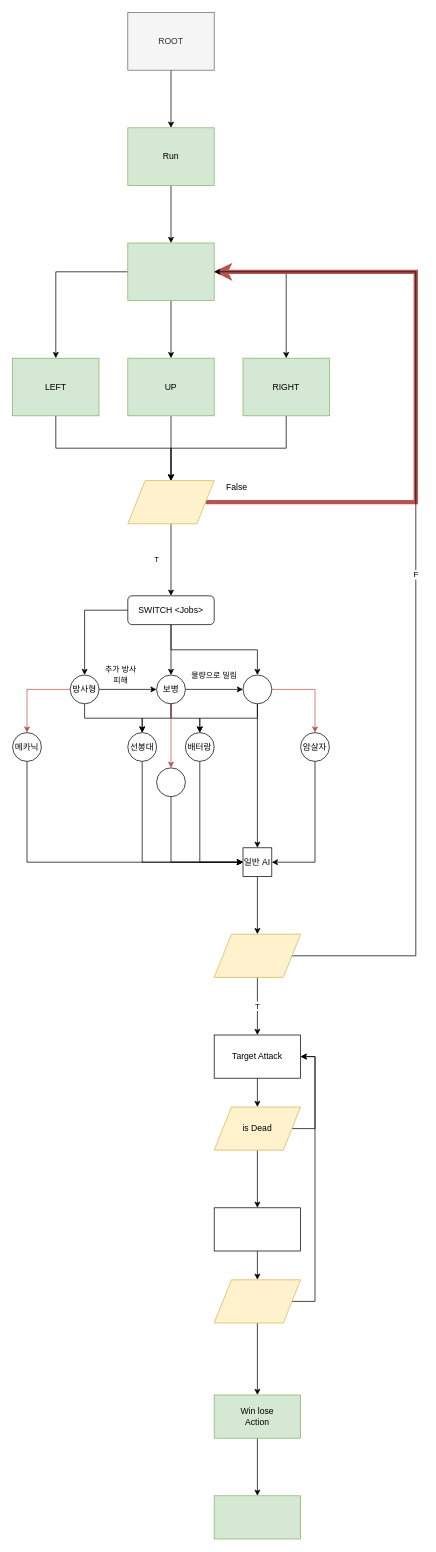
This 436x1552 diagram has some shape labels left out. Each missing label, with the centre of its shape:
all Target Dead: point 257,1301
change Nearest Target: point 257,1229
is Range: point 257,955
MEET ENEMY: point 170,502
WHERE - GO: point 170,271
Whoi enemy Attack (N)/s: point 257,1517
싸움꾼: point 170,782
저격: point 257,689
